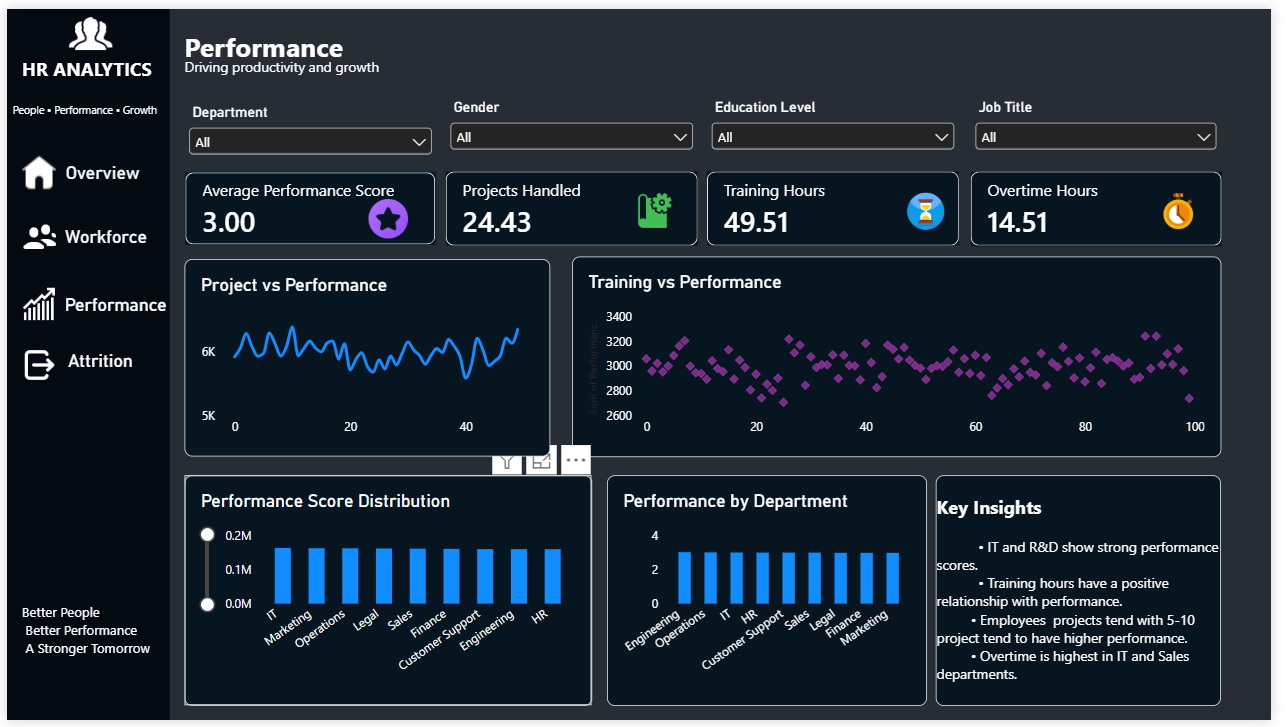

The dashboard page shown, as its layout file describes it:
{"tool":"powerbi","page":{"name":"Performance","canvas":[1280,720],"ordinal":2},"visuals":[{"type":"shape","box":[0,0,165,720],"z":0},{"type":"textbox","box":[15.1,48,134.5,42.5],"z":1000},{"type":"textbox","box":[0,90.6,164.7,32.9],"z":2000},{"type":"actionButton","title":"Overview","box":[42.6,155.5,107.7,35.9],"z":3000},{"type":"actionButton","title":"Workforce","box":[47.4,220.1,106.7,31.1],"z":4000},{"type":"actionButton","title":"Performance","box":[54.1,289,111.5,26.8],"z":5000},{"type":"actionButton","title":"Attrition","box":[54.3,345.7,80.2,39.5],"z":6000},{"type":"textbox","box":[180,20,349.9,38.4],"z":7000},{"type":"textbox","box":[180,48,269,42.5],"z":8000},{"type":"slicer","fields":{"Values":["Extended_Employee_Performance_and_Productivity_Data.Department"]},"box":[179.9,96.2,255.2,64.5],"z":9000},{"type":"slicer","fields":{"Values":["Extended_Employee_Performance_and_Productivity_Data.Gender"]},"box":[444.6,90.6,255.2,64.5],"z":10000},{"type":"slicer","fields":{"Values":["Extended_Employee_Performance_and_Productivity_Data.Education_Level"]},"box":[709.4,90.6,255.2,64.5],"z":11000},{"type":"slicer","fields":{"Values":["Extended_Employee_Performance_and_Productivity_Data.Job_Title"]},"box":[975.6,90.6,253.9,64.5],"z":12000},{"type":"cardVisual","fields":{"Data":["Extended_Employee_Performance_and_Productivity_Data.Average Performance"]},"box":[179.8,164.7,255.2,75.5],"z":13000},{"type":"cardVisual","fields":{"Data":["Avg(Extended_Employee_Performance_and_Productivity_Data.Projects_Handled)"]},"box":[444.6,164.7,255.2,75.5],"z":14000},{"type":"cardVisual","fields":{"Data":["Avg(Extended_Employee_Performance_and_Productivity_Data.Training_Hours)"]},"box":[709.4,164.7,255.2,75.5],"z":15000},{"type":"cardVisual","fields":{"Data":["Avg(Extended_Employee_Performance_and_Productivity_Data.Overtime_Hours)"]},"box":[975.7,164.3,254.3,75.7],"z":16000},{"type":"scatterChart","title":"Training vs Performance","fields":{"X":["Extended_Employee_Performance_and_Productivity_Data.Training_Hours"],"Y":["Sum(Extended_Employee_Performance_and_Productivity_Data.Performance_Score)"]},"box":[571.8,250.7,657.7,202.8],"z":17000},{"type":"clusteredColumnChart","title":"Performance by Department","fields":{"Category":["Extended_Employee_Performance_and_Productivity_Data.Department"],"Y":["Avg(Extended_Employee_Performance_and_Productivity_Data.Performance_Score)"]},"box":[607,471.8,323.9,233.8],"z":18000},{"type":"columnChart","title":"Performance Score Distribution","fields":{"Category":["Extended_Employee_Performance_and_Productivity_Data.Department"],"Y":["Sum(Extended_Employee_Performance_and_Productivity_Data.Overtime_Hours)"]},"box":[180.3,471.8,412.7,233.8],"z":19000},{"type":"textbox","box":[15.1,599.7,144.1,120.8],"z":20000},{"type":"textbox","title":"    Key Insights","box":[940.8,471.8,288.7,233.8],"z":21000},{"type":"image","box":[355.4,192.1,60,40],"z":22000},{"type":"image","box":[10,145.9,44.5,39.7],"z":23000},{"type":"image","box":[15.3,211,35.7,40],"z":24000},{"type":"image","box":[10,282.8,44.5,33],"z":25000},{"type":"image","box":[2.5,340.7,60,40],"z":26000},{"type":"image","box":[59.2,4.2,50.7,43.7],"z":27000},{"type":"lineChart","title":"Project vs Performance","fields":{"Category":["Extended_Employee_Performance_and_Productivity_Data.Projects_Handled"],"Y":["Sum(Extended_Employee_Performance_and_Productivity_Data.Performance_Score)"]},"box":[180.3,253.5,370.4,200],"z":28000},{"type":"image","box":[624.4,185.2,60,40],"z":29000},{"type":"image","box":[900.2,185.2,60,40],"z":30000},{"type":"image","box":[1155.4,185.2,60,40],"z":31000}]}

Visuals, with their boxes in screenshot pixels (x1, y1, x2, y2), scaled from the page's 1280x720 canvas onto the 1286x727 screenshot:
shape: [x1=0, y1=0, x2=166, y2=726]
textbox: [x1=15, y1=48, x2=150, y2=91]
textbox: [x1=0, y1=91, x2=165, y2=125]
"Overview" actionButton: [x1=43, y1=157, x2=151, y2=193]
"Workforce" actionButton: [x1=48, y1=222, x2=155, y2=254]
"Performance" actionButton: [x1=54, y1=292, x2=166, y2=319]
"Attrition" actionButton: [x1=55, y1=349, x2=135, y2=389]
textbox: [x1=181, y1=20, x2=532, y2=59]
textbox: [x1=181, y1=48, x2=451, y2=91]
slicer - Extended_Employee_Performance_and_Productivity_Data.Department: [x1=181, y1=97, x2=437, y2=162]
slicer - Extended_Employee_Performance_and_Productivity_Data.Gender: [x1=447, y1=91, x2=703, y2=157]
slicer - Extended_Employee_Performance_and_Productivity_Data.Education_Level: [x1=713, y1=91, x2=969, y2=157]
slicer - Extended_Employee_Performance_and_Productivity_Data.Job_Title: [x1=980, y1=91, x2=1235, y2=157]
cardVisual - Extended_Employee_Performance_and_Productivity_Data.Average Performance: [x1=181, y1=166, x2=437, y2=243]
cardVisual - Avg(Extended_Employee_Performance_and_Productivity_Data.Projects_Handled): [x1=447, y1=166, x2=703, y2=243]
cardVisual - Avg(Extended_Employee_Performance_and_Productivity_Data.Training_Hours): [x1=713, y1=166, x2=969, y2=243]
cardVisual - Avg(Extended_Employee_Performance_and_Productivity_Data.Overtime_Hours): [x1=980, y1=166, x2=1236, y2=242]
"Training vs Performance" scatterChart: [x1=574, y1=253, x2=1235, y2=458]
"Performance by Department" clusteredColumnChart: [x1=610, y1=476, x2=935, y2=712]
"Performance Score Distribution" columnChart: [x1=181, y1=476, x2=596, y2=712]
textbox: [x1=15, y1=606, x2=160, y2=726]
"    Key Insights" textbox: [x1=945, y1=476, x2=1235, y2=712]
image: [x1=357, y1=194, x2=417, y2=234]
image: [x1=10, y1=147, x2=55, y2=187]
image: [x1=15, y1=213, x2=51, y2=253]
image: [x1=10, y1=286, x2=55, y2=319]
image: [x1=3, y1=344, x2=63, y2=384]
image: [x1=59, y1=4, x2=110, y2=48]
"Project vs Performance" lineChart: [x1=181, y1=256, x2=553, y2=458]
image: [x1=627, y1=187, x2=688, y2=227]
image: [x1=904, y1=187, x2=965, y2=227]
image: [x1=1161, y1=187, x2=1221, y2=227]
